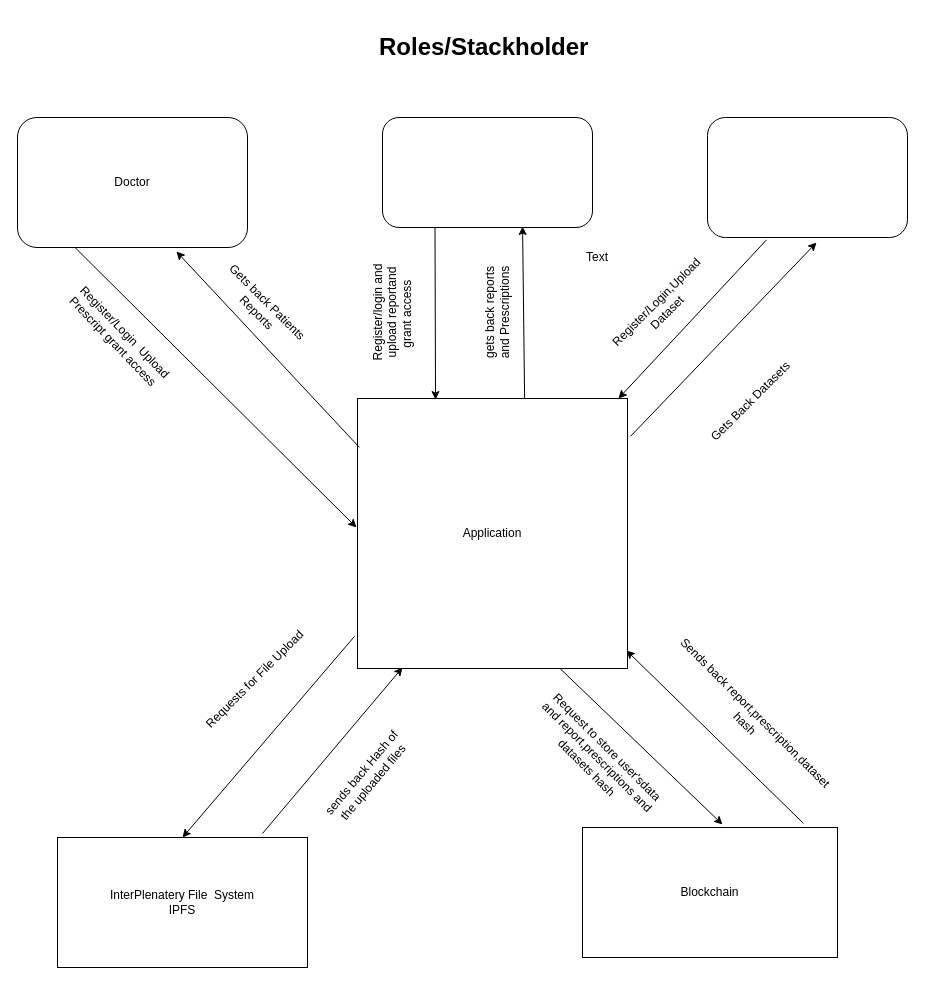
Some shapes in this 925 by 985 pixel diagram are drawn without their labels. Here are the shapes that lost their labels. From the top down, the box of each, then its label:
(382, 116, 592, 228): Patient
(706, 116, 908, 238): Healthcare Provider
